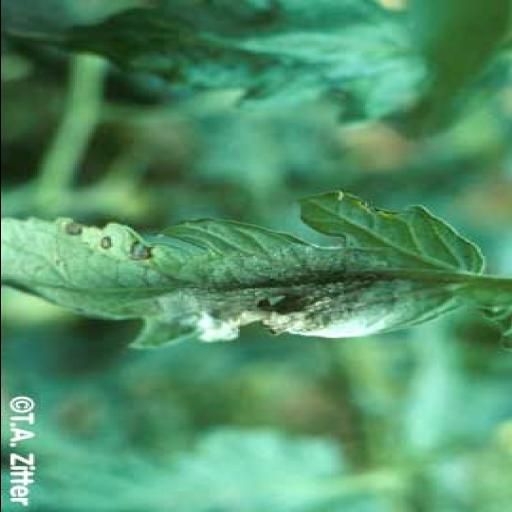Late Blight: (2, 197, 488, 373)
